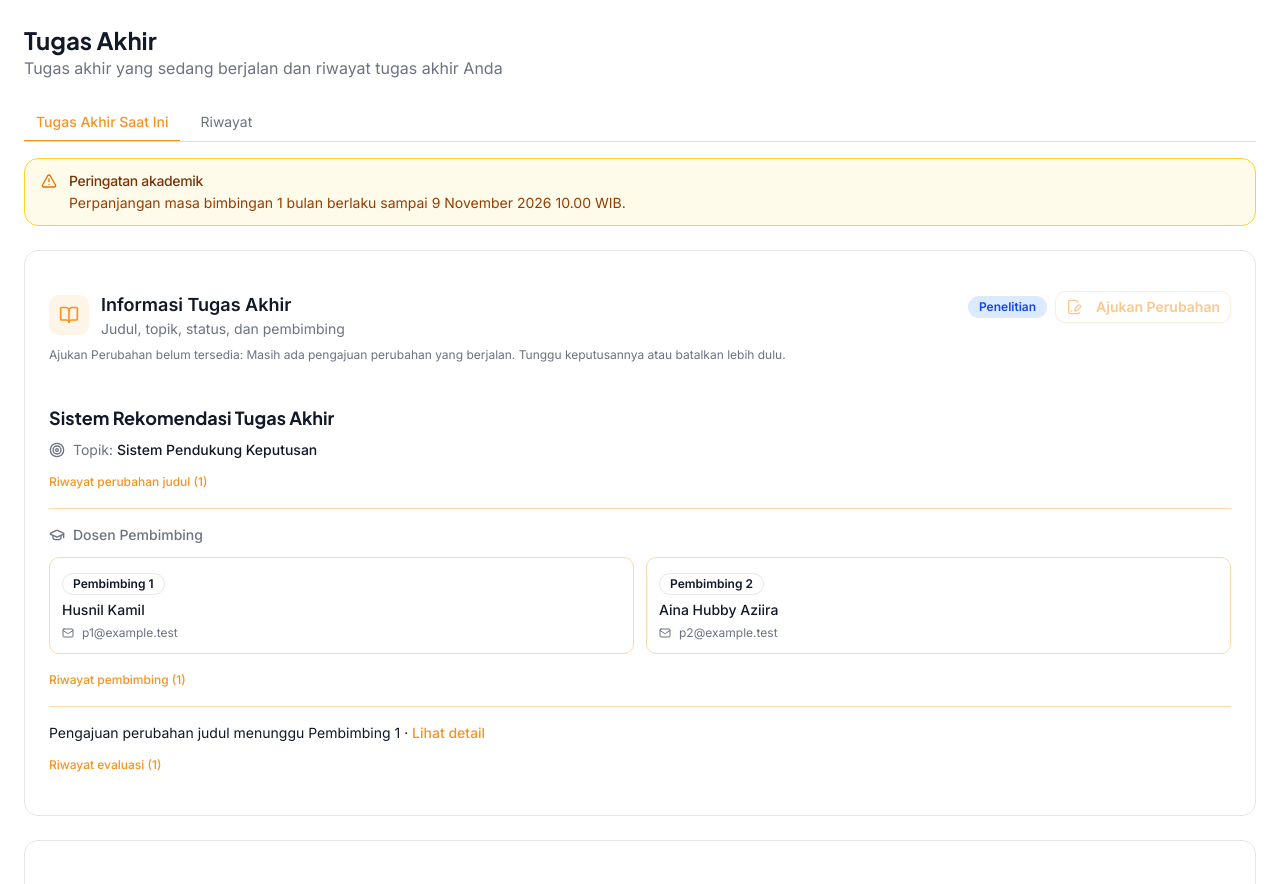
TugasAkhirOverviewPage › puts Ajukan Perubahan, the history links, the running request and the evaluation history in the info card; a running warning is a ribbon
The width and height of the screenshot is (1280, 884).
Check: the button "Ajukan Perubahan" is disabled, box x1=1055 y1=291 x2=1231 y2=323
Check: the text "Ajukan Perubahan belum tersedia: Masih ada pengajuan perubahan yang berjalan" is shown, box x1=49 y1=347 x2=786 y2=362
Click the button "Riwayat perubahan judul (1)": (128, 482) x1=49 y1=474 x2=207 y2=490
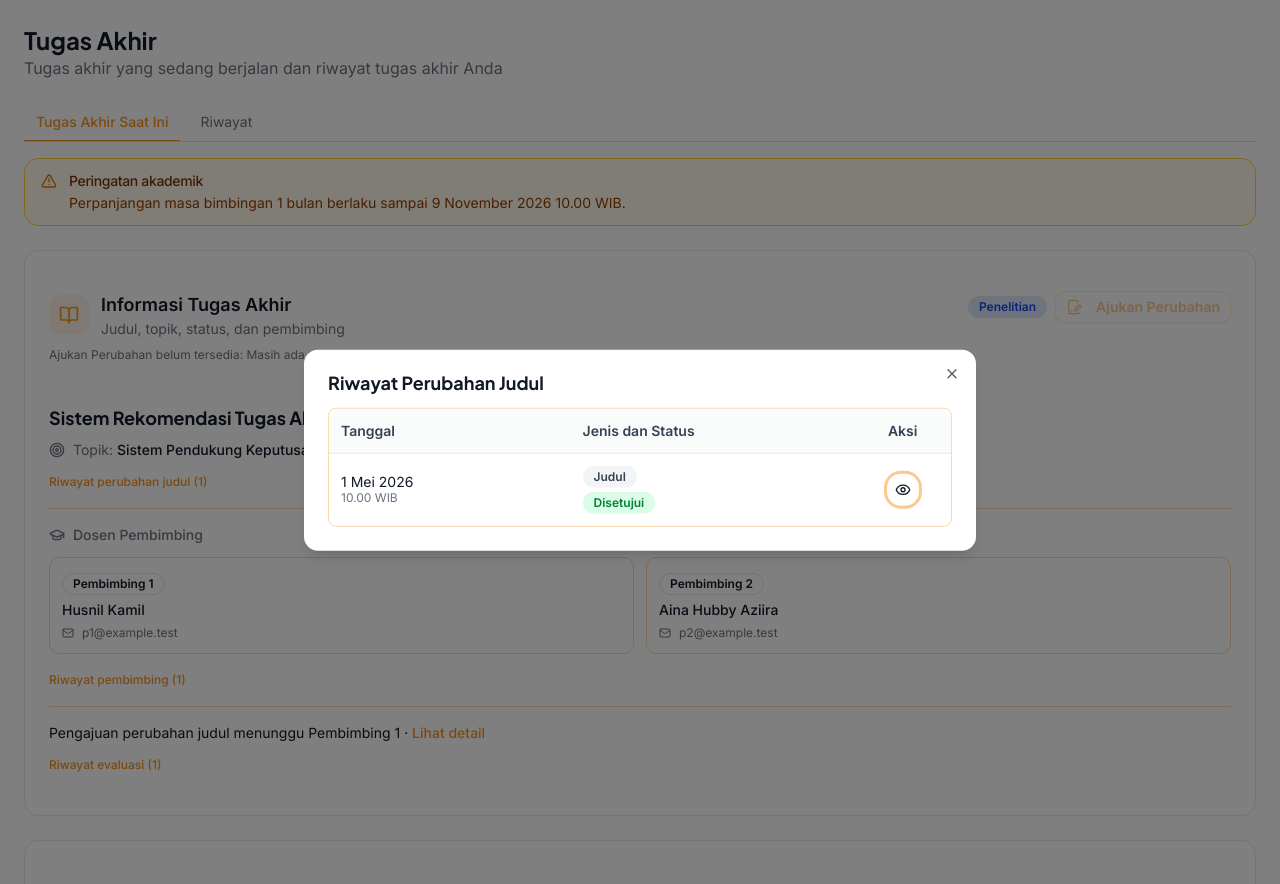
Check: the text "Disetujui" is shown, box x1=582 y1=491 x2=655 y2=513
